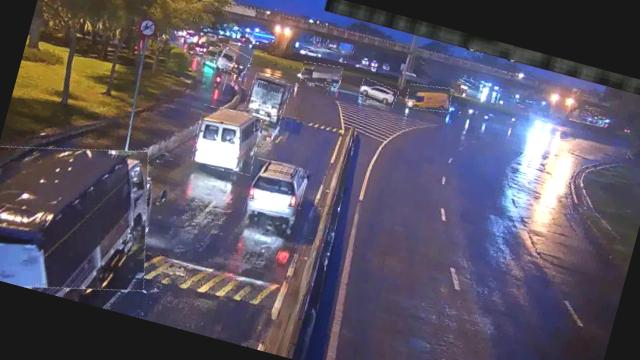Bike: (212, 66, 228, 90)
Bus: (188, 102, 264, 177)
Car: (243, 158, 308, 224), (357, 79, 398, 108)
Truck: (0, 123, 169, 314), (242, 73, 292, 126), (404, 79, 454, 116), (298, 58, 343, 90), (212, 43, 252, 76)
